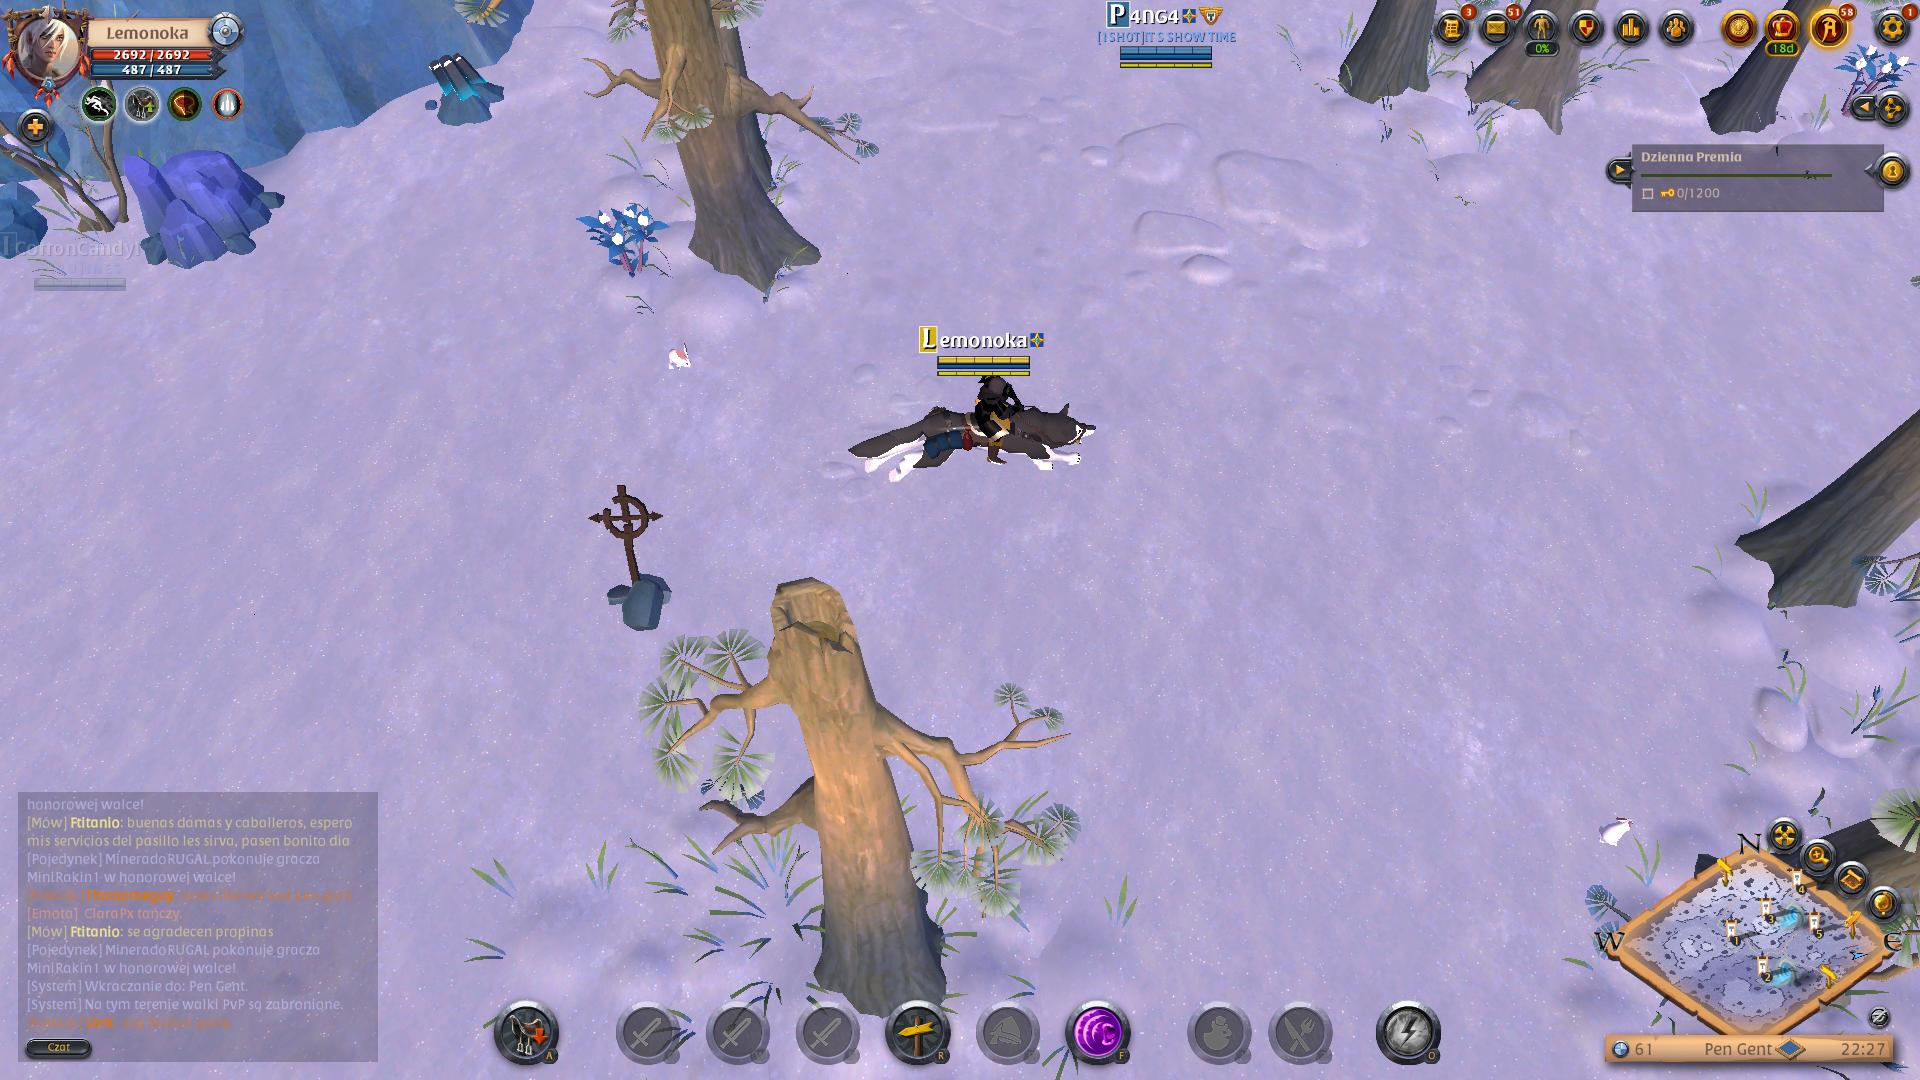fiber tier 4: (580, 200, 669, 282), (1840, 45, 1920, 96)
ore tier 4: (417, 50, 513, 131)
rock tier 4: (116, 146, 291, 272)
